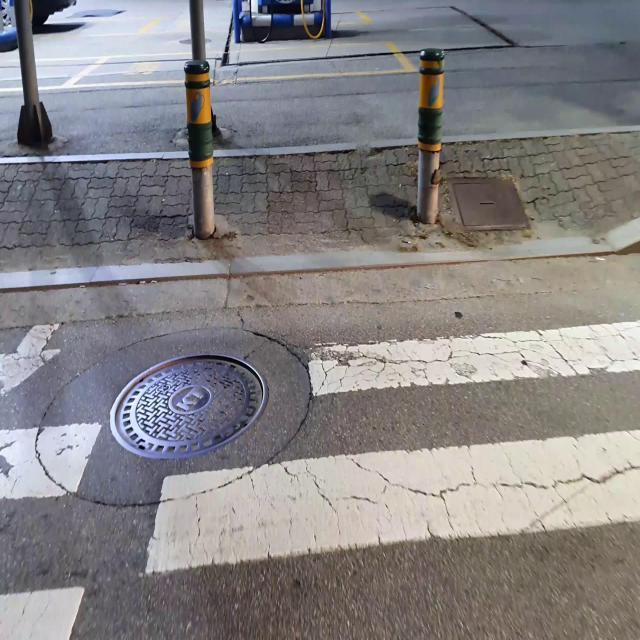crosswalk: (0, 288, 640, 640)
